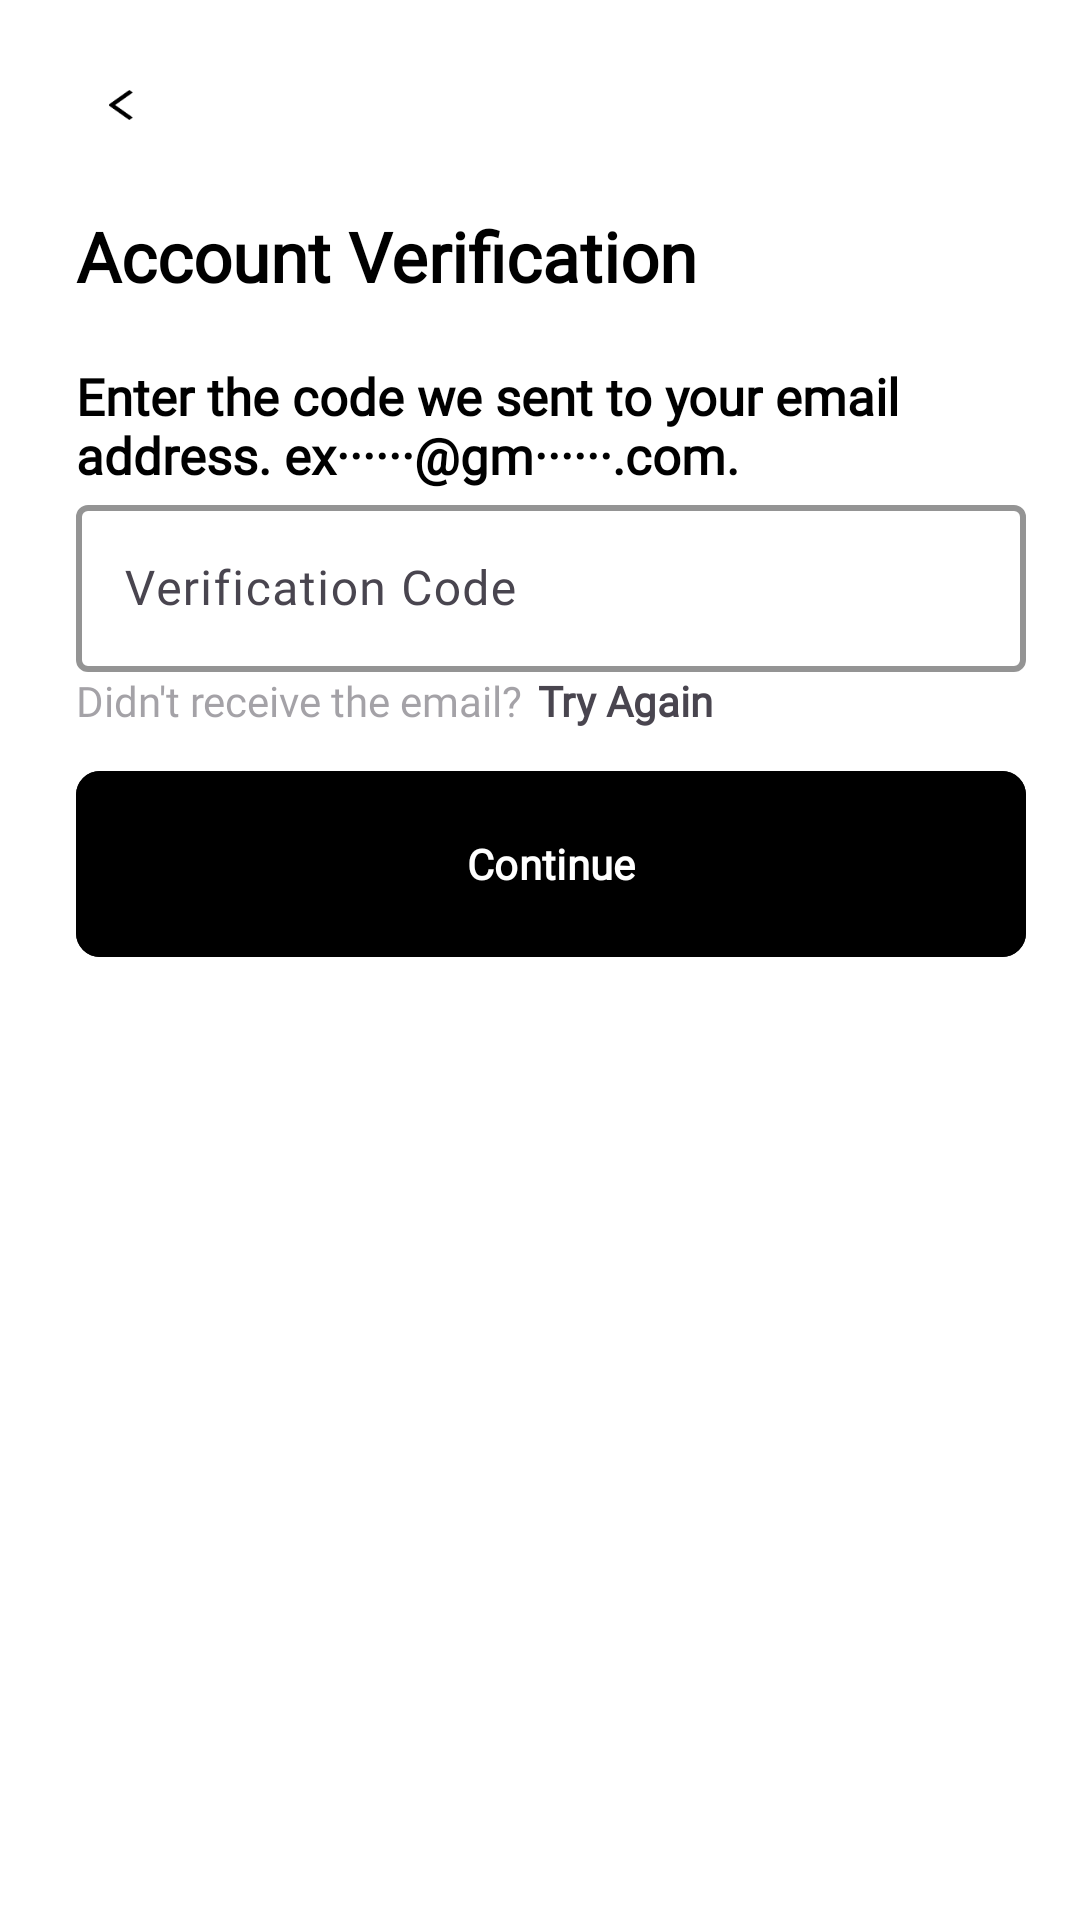

Where icons sit on this 1080 × 1920 app screen, as Rect(x1, y1, x2, y2):
Go back: Rect(109, 90, 133, 120)
